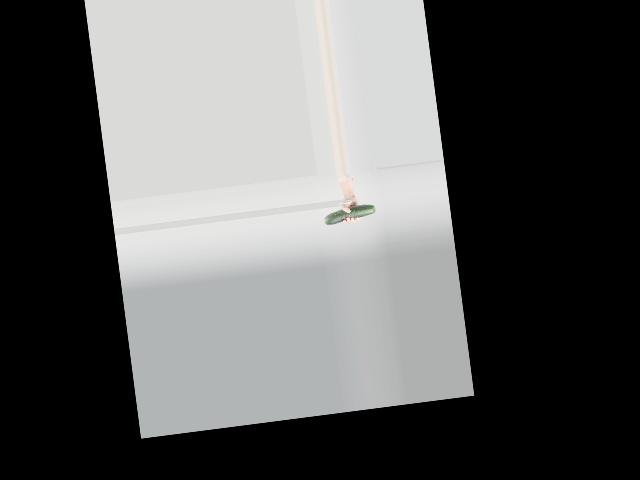cucumber: (322, 203, 375, 225)
